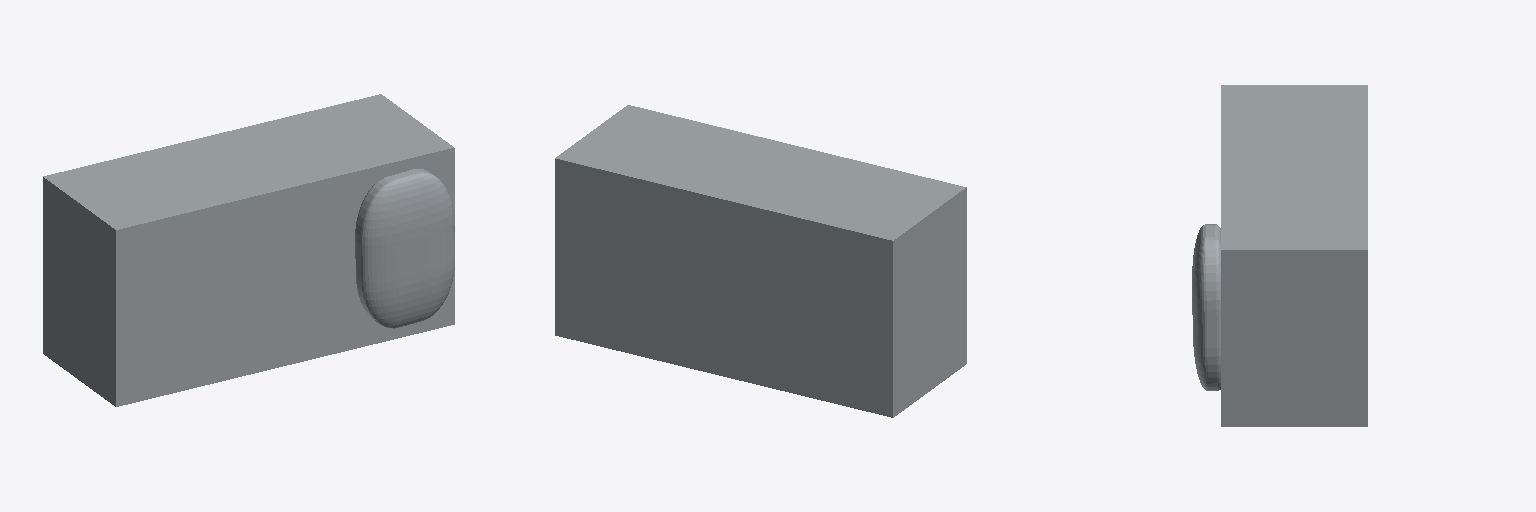
Rendered from tinker.obj.
3 views of the same model, side by side, from view 1: azimuth 30°, elevation 25°; view 2: azimuth 150°, elevation 25°; view 3: azimuth 270°, elevation 25° (orthographic).
Visible parts, largest first — view 1: obj_0; view 2: obj_0; view 3: obj_0.
Boxes of the visible parts, x1=… form: obj_0: x1=43, y1=94, x2=454, y2=406; obj_0: x1=555, y1=105, x2=966, y2=417; obj_0: x1=1192, y1=85, x2=1367, y2=426.
Size of the model in its own units: 40 by 20 by 18.